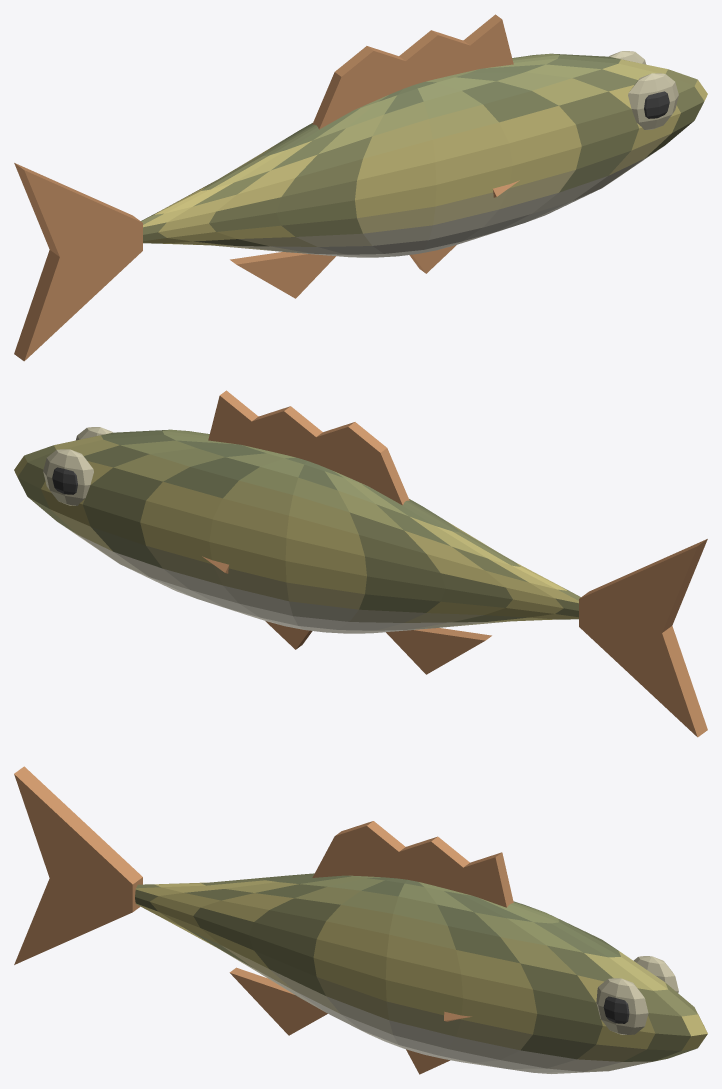
Rendered from YellowPerch.glb.
The picture shows the model from 3 angles, top to bottom: view 1: azimuth 30°, elevation 25°; view 2: azimuth 150°, elevation 25°; view 3: azimuth 330°, elevation 25°; orthographic projection.
Visible parts, largest first — view 1: YellowPerch; view 2: YellowPerch; view 3: YellowPerch.
Part boxes in pixels (x1=…): YellowPerch: x1=14, y1=14, x2=707, y2=361; YellowPerch: x1=14, y1=390, x2=707, y2=737; YellowPerch: x1=14, y1=766, x2=707, y2=1074.
Size of the model in its own units: 2.27 by 0.7437 by 0.3017.
